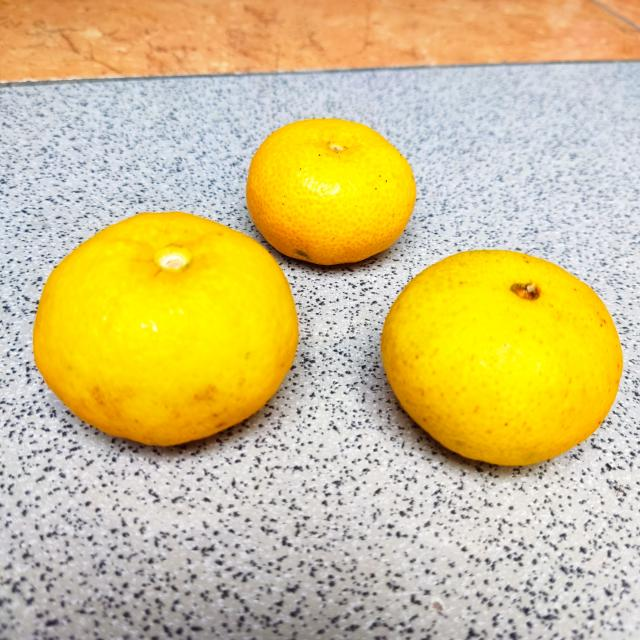orange: (28, 211, 302, 454), (371, 250, 626, 468), (241, 117, 419, 269)
